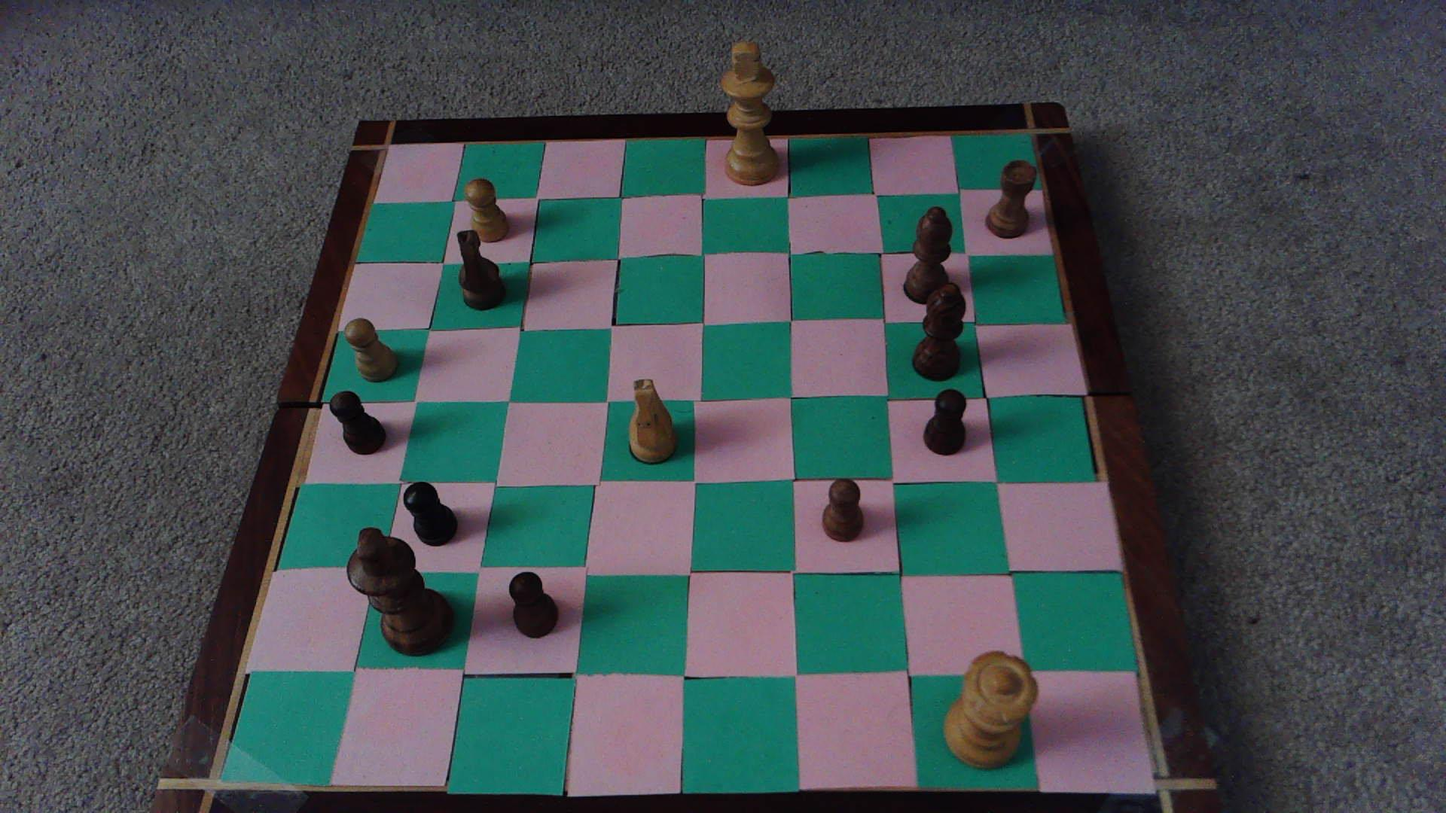dark_piece: (349, 528, 451, 655), (910, 281, 966, 381), (905, 205, 953, 304), (984, 158, 1039, 237), (454, 229, 505, 309), (330, 391, 385, 453), (403, 482, 456, 546), (509, 572, 557, 637), (924, 389, 966, 454), (822, 479, 863, 541)
white_piece: (945, 651, 1037, 768), (721, 43, 779, 185), (628, 378, 676, 462), (343, 318, 397, 383), (465, 178, 509, 242)
